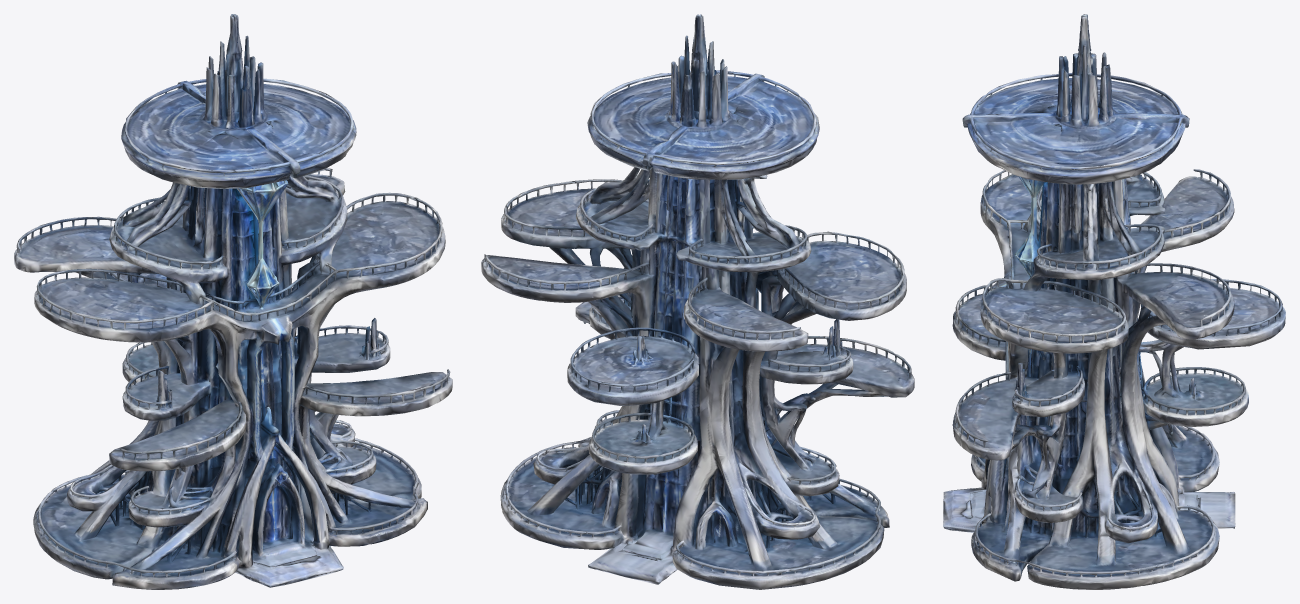
Rendered from TOWER_M5C_L1.glb.
The picture shows the model from 3 angles, left to right: view 1: azimuth 30°, elevation 25°; view 2: azimuth 150°, elevation 25°; view 3: azimuth 270°, elevation 25°; orthographic projection. The views are drawn at different scales.
Visible parts, largest first — view 1: TOWER_M5C_L1; view 2: TOWER_M5C_L1; view 3: TOWER_M5C_L1.
Boxes of the visible parts, <box> form: TOWER_M5C_L1: <box>14,14,452,589</box>; TOWER_M5C_L1: <box>481,14,914,589</box>; TOWER_M5C_L1: <box>943,14,1285,589</box>.
Size of the model in its own units: 0.7831 by 0.9854 by 0.6155.
1 material, 1 textured.
